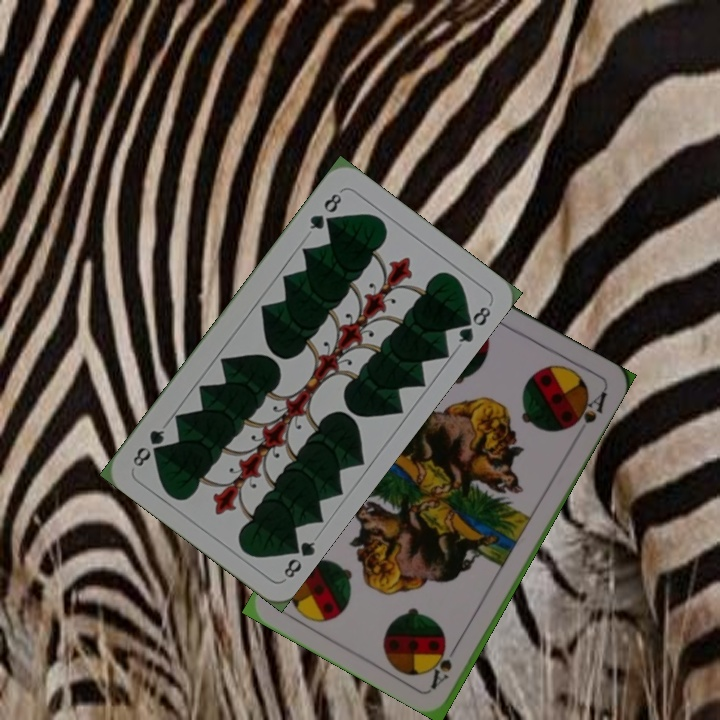G8: (279, 535, 318, 581), (305, 189, 345, 233)
SA: (427, 636, 463, 691)
